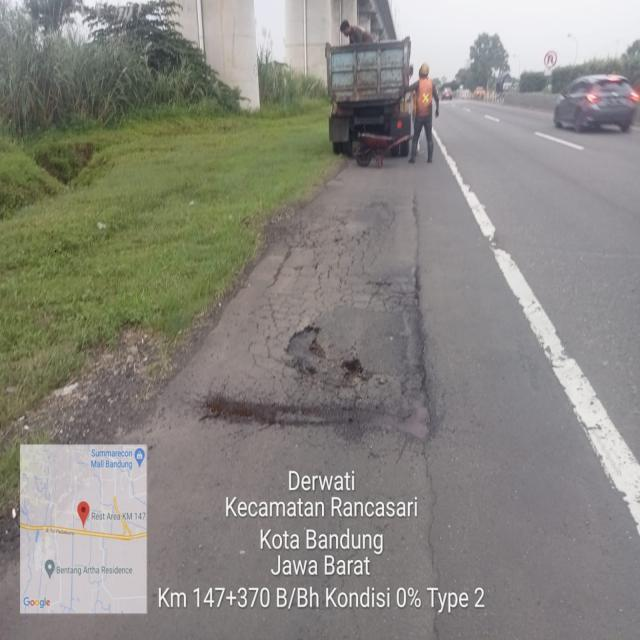Buraco: (193, 391, 327, 431), (281, 324, 329, 380), (338, 357, 377, 387)
